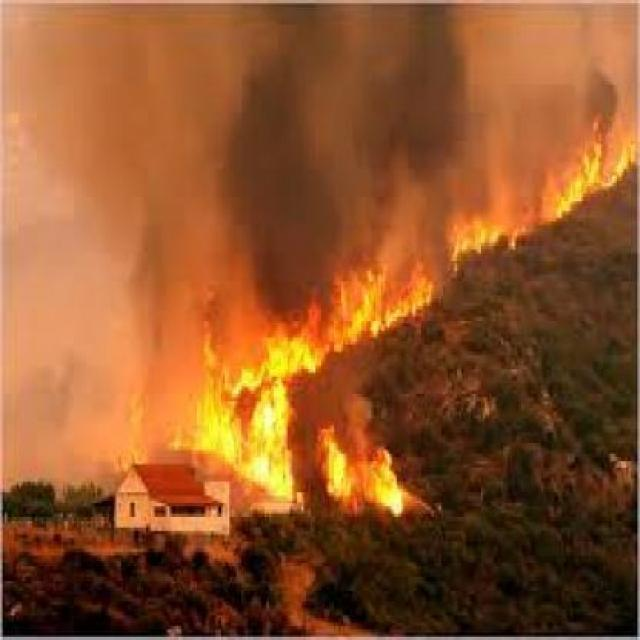Fire: (180, 299, 444, 537), (403, 86, 640, 304)
Smoke: (8, 3, 536, 256)
